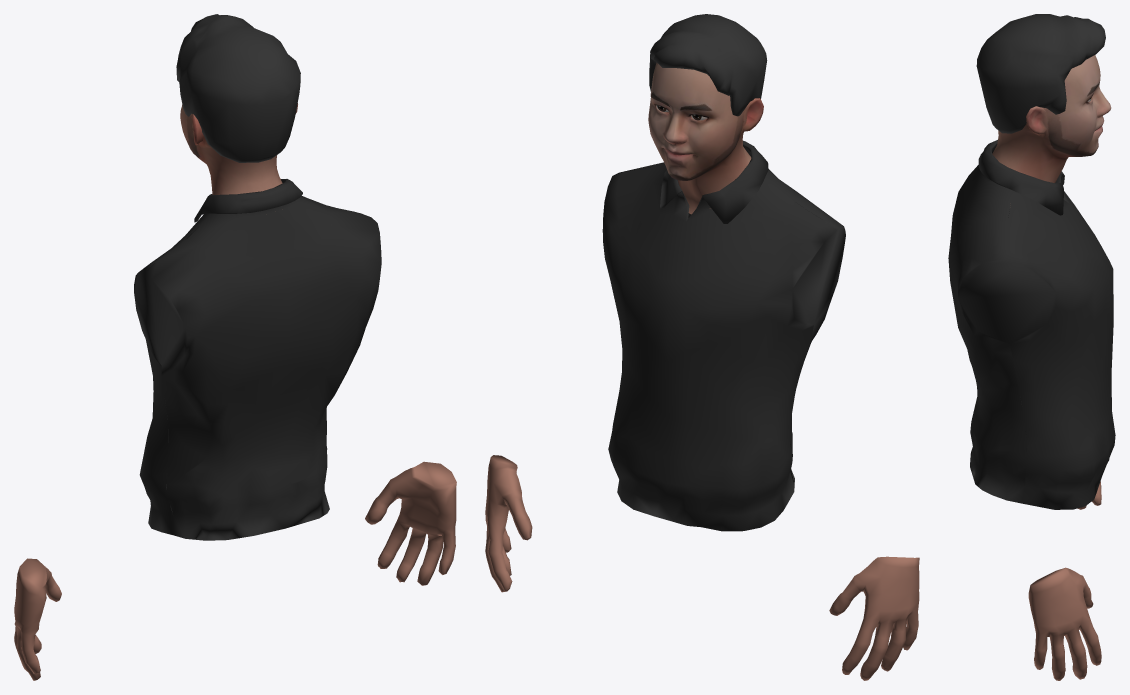
Rendered from male-web.glb.
3 views of the same model, side by side, from view 1: azimuth 30°, elevation 25°; view 2: azimuth 150°, elevation 25°; view 3: azimuth 270°, elevation 25° (orthographic). The views are drawn at different scales.
Visible parts, largest first — view 1: Wolf3D_Outfit_Top, Wolf3D_Hair, Wolf3D_Right_hand, Wolf3D_Left_hand, Wolf3D_Head; view 2: Wolf3D_Outfit_Top, Wolf3D_Head, Wolf3D_Hair, Wolf3D_Left_hand, Wolf3D_Right_hand; view 3: Wolf3D_Outfit_Top, Wolf3D_Hair, Wolf3D_Head, Wolf3D_Right_hand.
Boxes of the visible parts, left/top/right/bottom form: Wolf3D_Outfit_Top: left=134, top=179, right=381, bottom=540; Wolf3D_Hair: left=176, top=14, right=300, bottom=162; Wolf3D_Right_hand: left=365, top=461, right=456, bottom=585; Wolf3D_Left_hand: left=14, top=558, right=61, bottom=680; Wolf3D_Head: left=180, top=103, right=297, bottom=194; Wolf3D_Outfit_Top: left=602, top=140, right=845, bottom=531; Wolf3D_Head: left=648, top=62, right=763, bottom=214; Wolf3D_Hair: left=649, top=14, right=767, bottom=116; Wolf3D_Left_hand: left=829, top=556, right=919, bottom=680; Wolf3D_Right_hand: left=485, top=455, right=532, bottom=592; Wolf3D_Outfit_Top: left=948, top=140, right=1115, bottom=509; Wolf3D_Hair: left=976, top=14, right=1105, bottom=133; Wolf3D_Head: left=992, top=55, right=1111, bottom=182; Wolf3D_Right_hand: left=1028, top=567, right=1101, bottom=680.
Size of the model in its own units: 0.7626 by 1.03 by 0.2708.
Materials: 6 (4 with a texture image).
